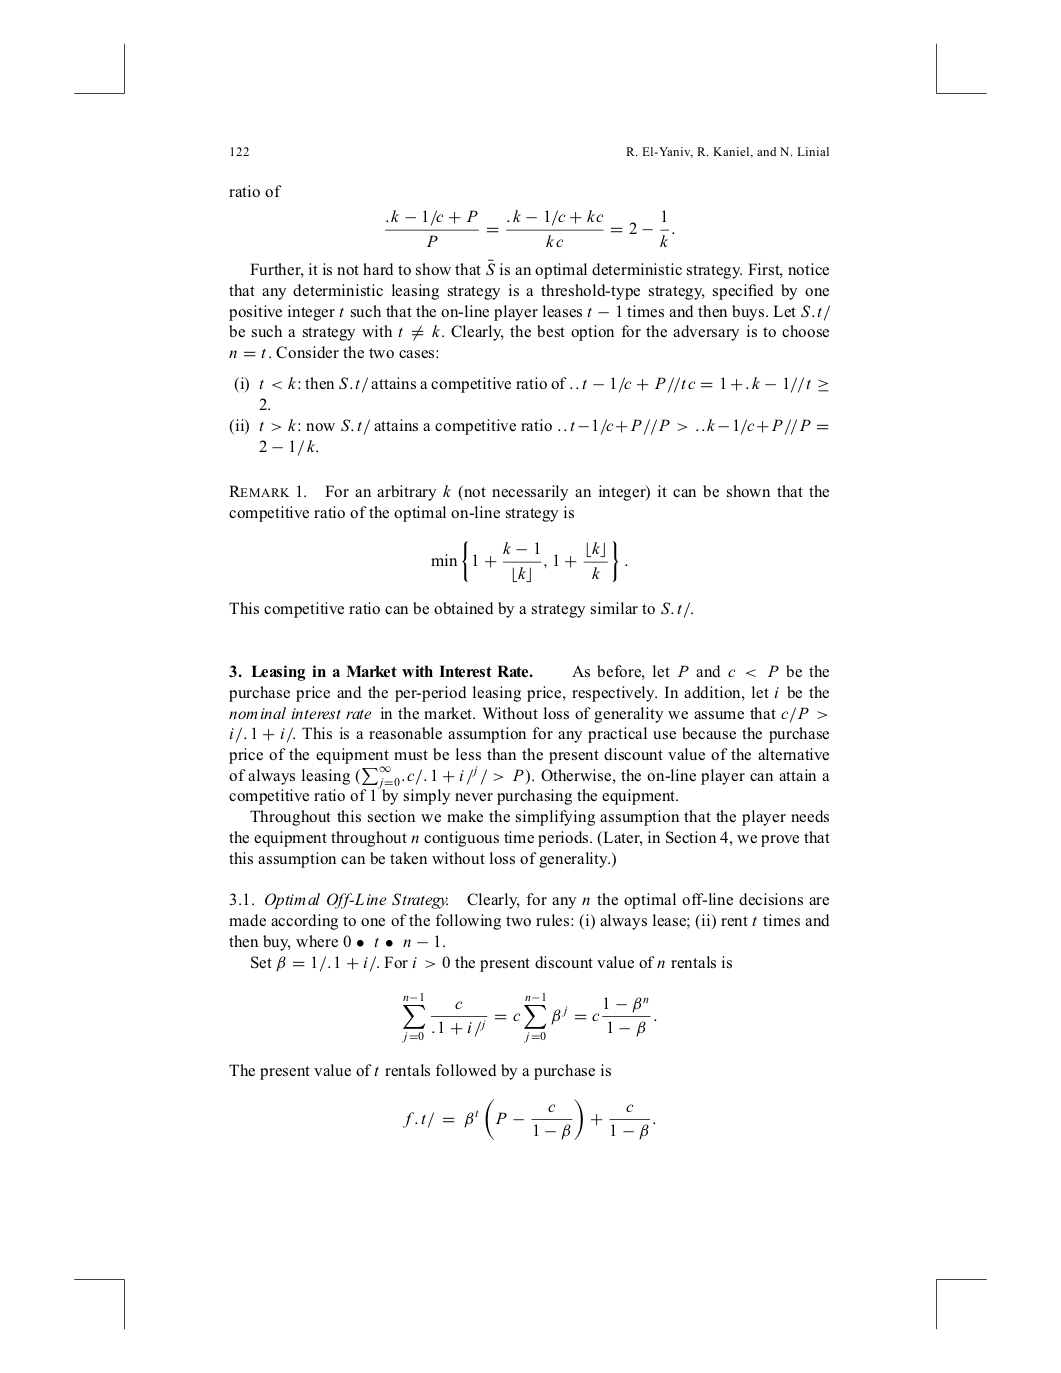formula: (402, 992, 656, 1043), (385, 210, 674, 249), (403, 1098, 655, 1140), (431, 541, 627, 583)
